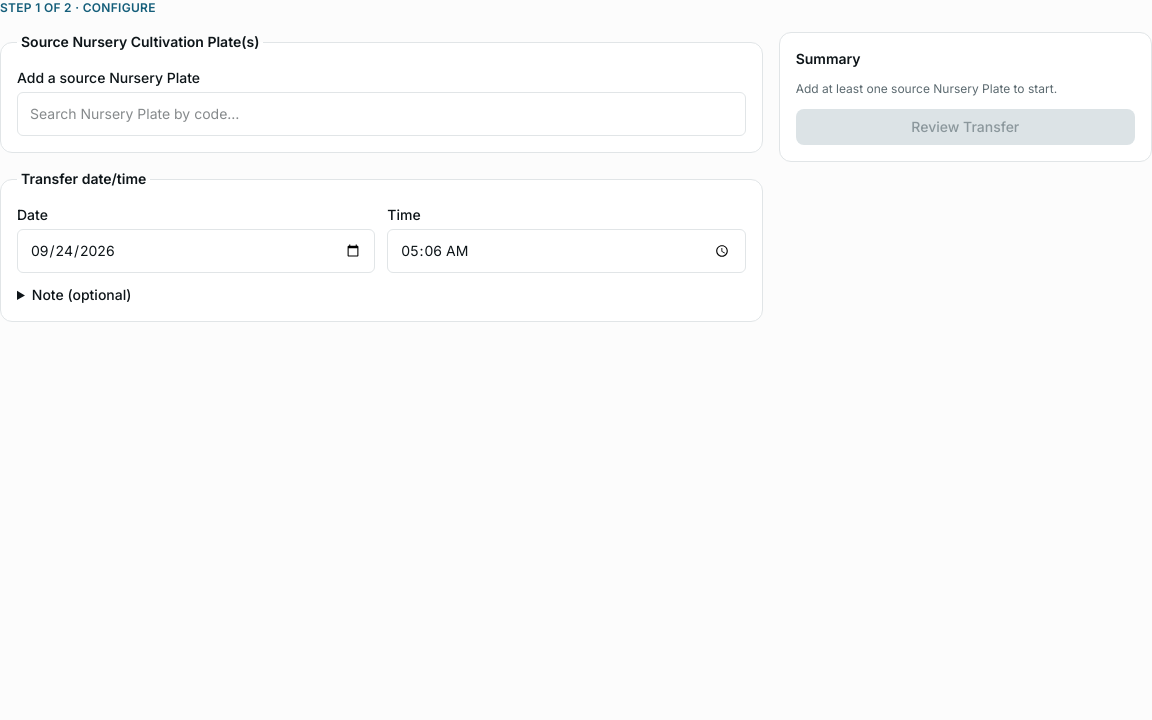
it: ProductionTransferForm › establishes the Batch from the first source Plate selected
Step 1. Focus the dropdown labelled "Add a source Nursery Plate" → [381, 114], box [17,92,746,136]
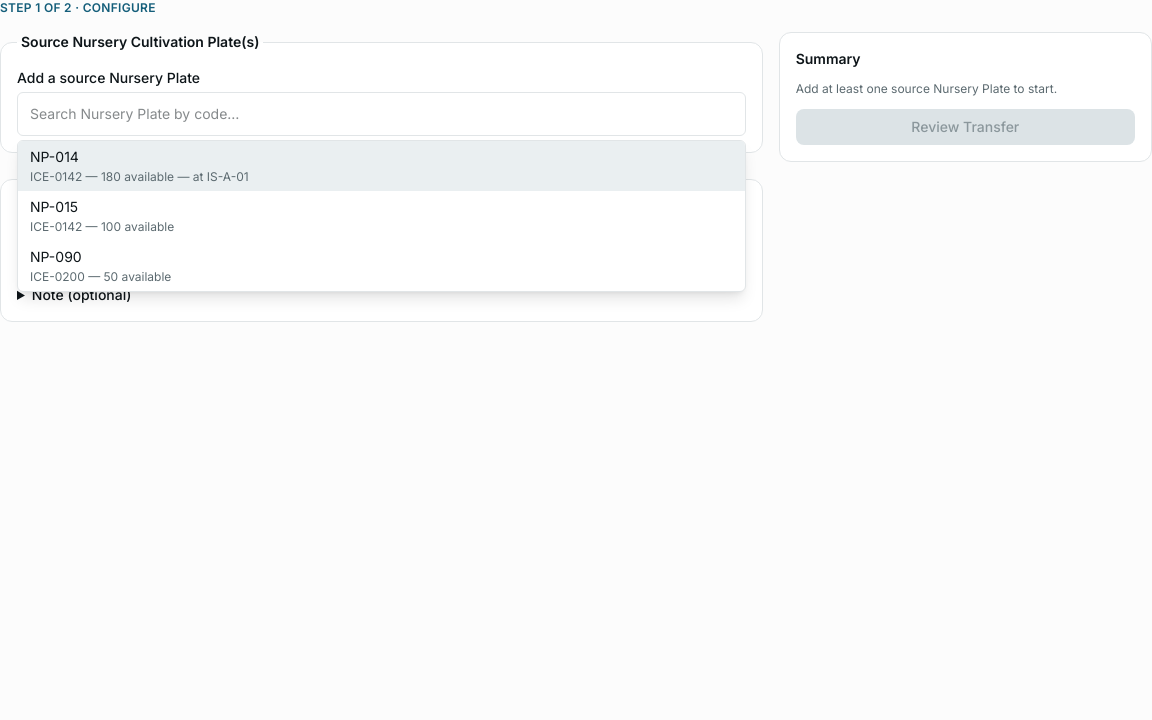
Now the text "NP-014" is shown
Step 2. Click the text "NP-014" → [54, 157], box [30,147,79,167]
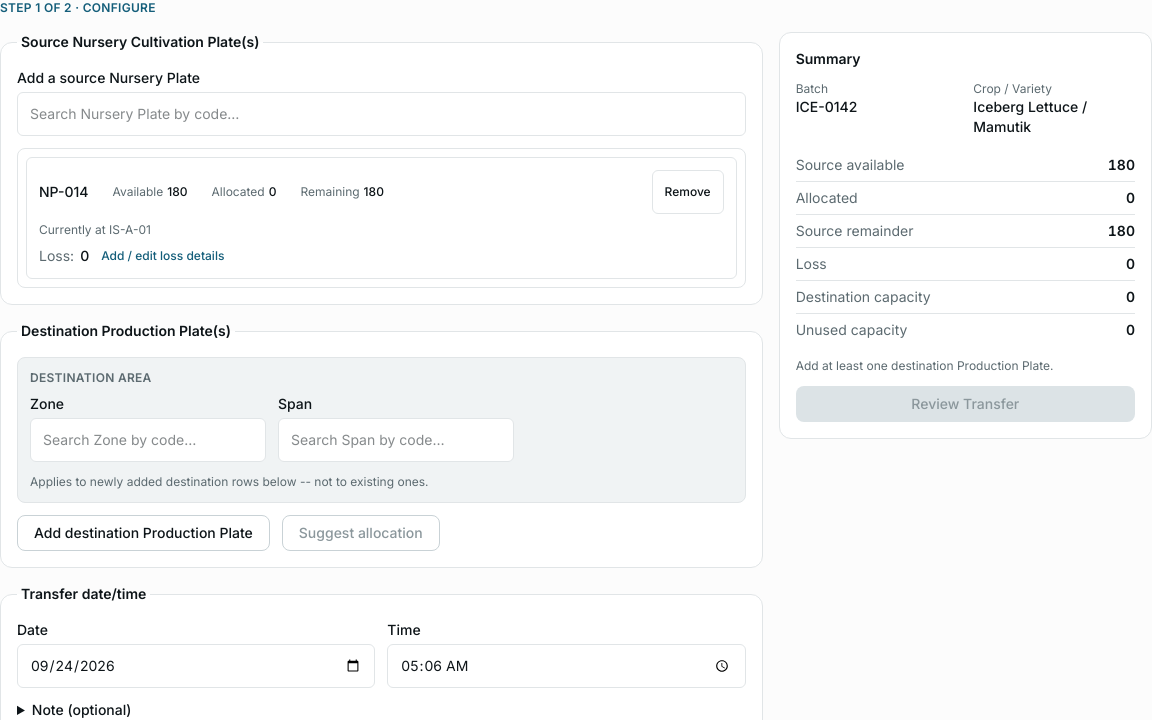
Now the text "ICE-0142" is shown, box [796,98,857,115]
Now the text "Iceberg Lettuce / Mamutik" is shown, box [973,98,1087,135]
